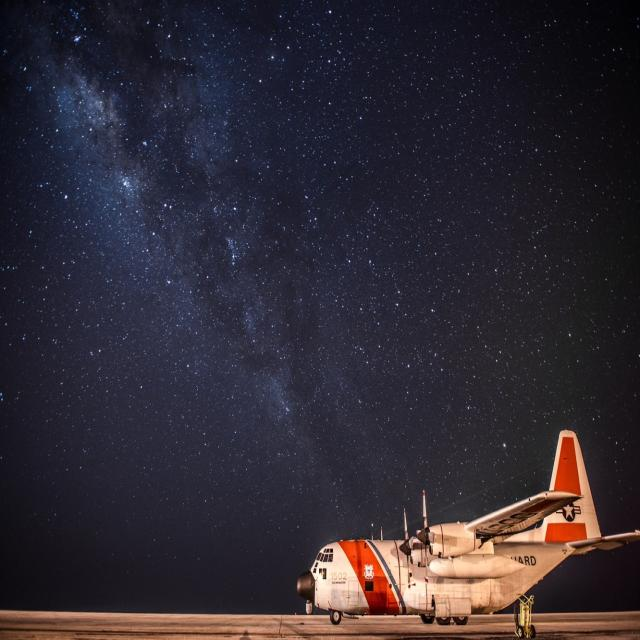MIL_Plane: (296, 428, 640, 626)
